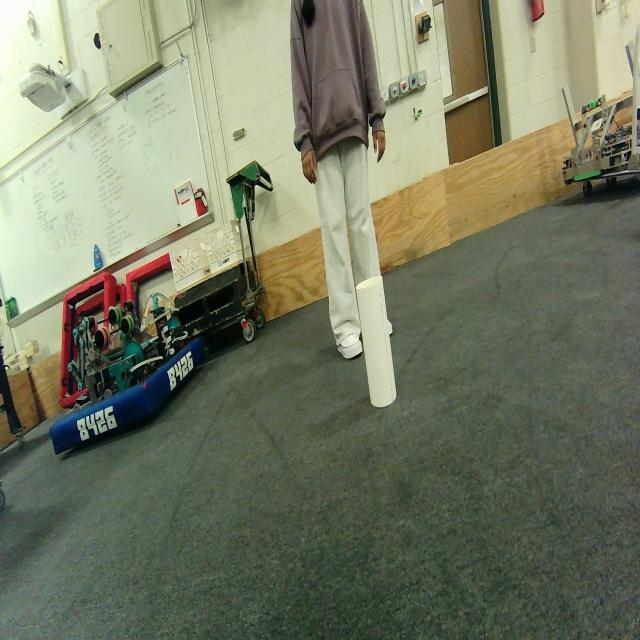coral: (350, 265, 399, 419)
